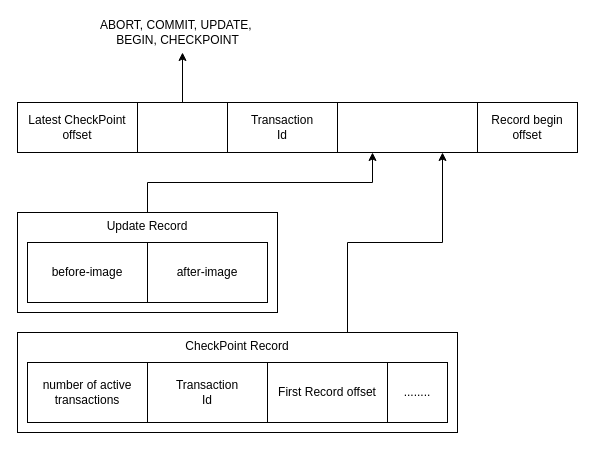
The diagram is 595 pixels wide and 450 high, and some of its shapes have lost their labels. The shapes that lost their labels are listed below. From the top down, each one's centre as x and y in pixels, then its label:
At pixel 182 127: "Record Type".
At pixel 407 127: "Record Data".
